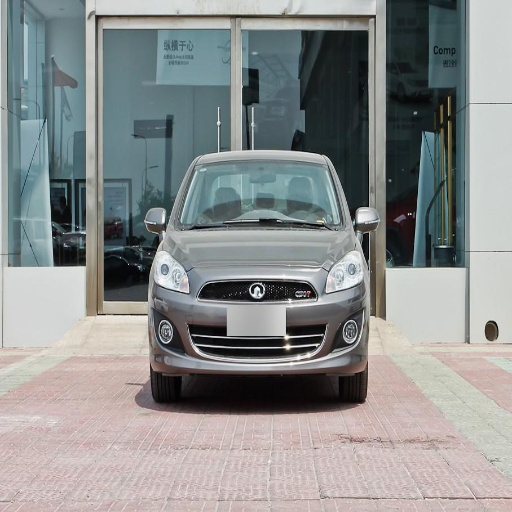front_bumper: (151, 268, 367, 372)
hood: (165, 230, 354, 278)
